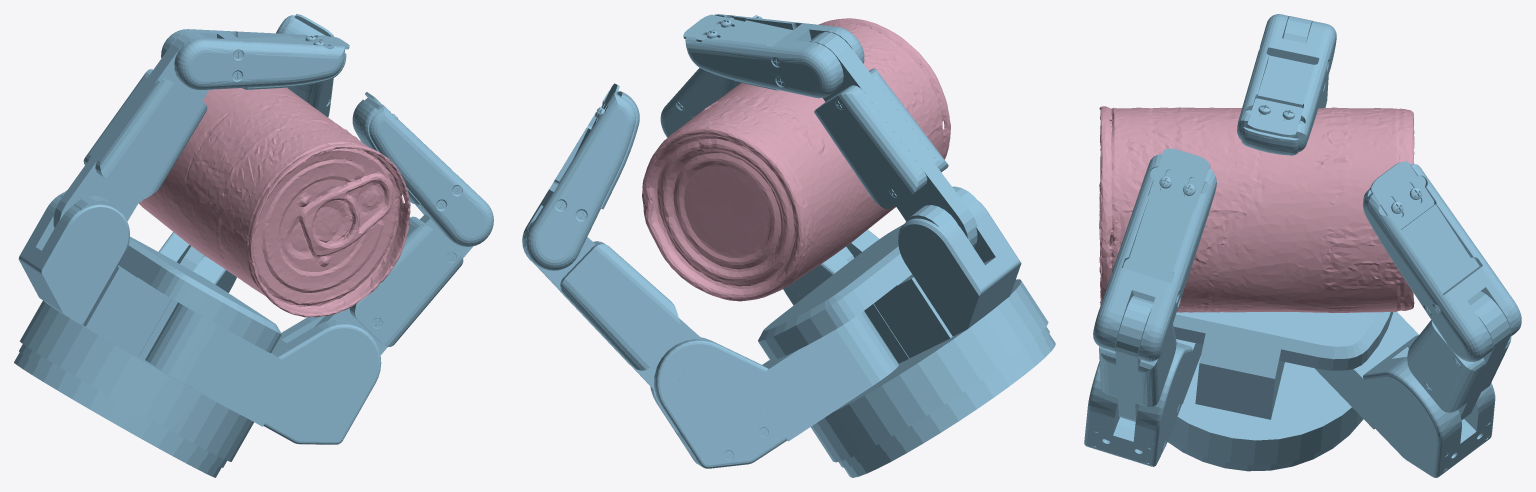
The model's file is Barrett_ycb+tomato_soup_can_mesh.glb.
The picture shows the model from 3 angles, left to right: view 1: azimuth 30°, elevation 25°; view 2: azimuth 150°, elevation 25°; view 3: azimuth 270°, elevation 25°; orthographic projection. The views are drawn at different scales.
Visible parts, largest first — view 1: world; view 2: world; view 3: world.
Boxes of the visible parts, x1=… form: world: x1=14, y1=14, x2=493, y2=477; world: x1=522, y1=14, x2=1055, y2=477; world: x1=1084, y1=14, x2=1521, y2=477.
Bounding box in the file's own units: 0.1691 × 0.1653 × 0.1415.
